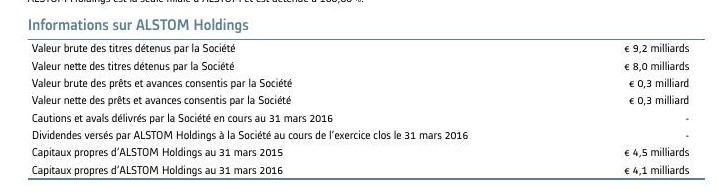table: (0, 0, 719, 194)
